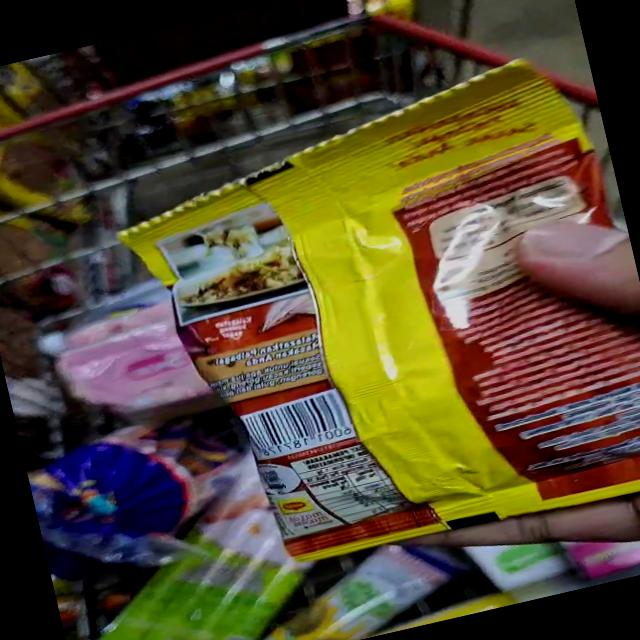Maggi Cukup Rasa: (123, 38, 640, 607)
